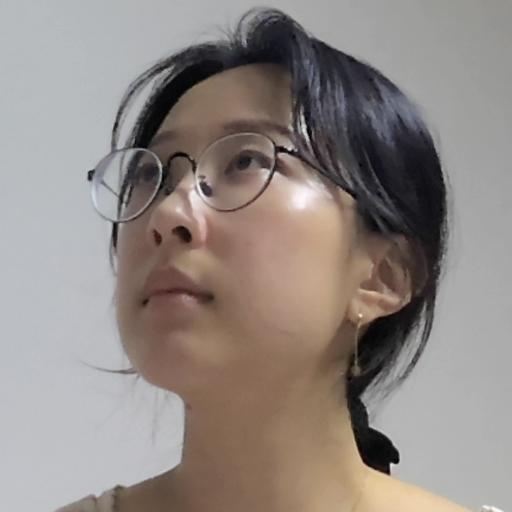no_glasses: (88, 15, 458, 424)
